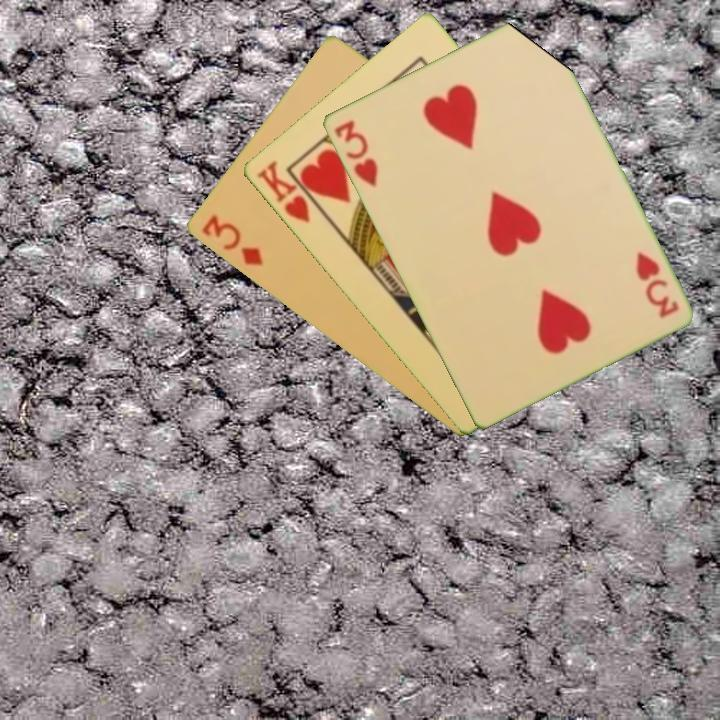3d: (197, 211, 266, 269)
3h: (330, 116, 381, 190), (631, 247, 682, 321)
Kh: (253, 156, 327, 227)
